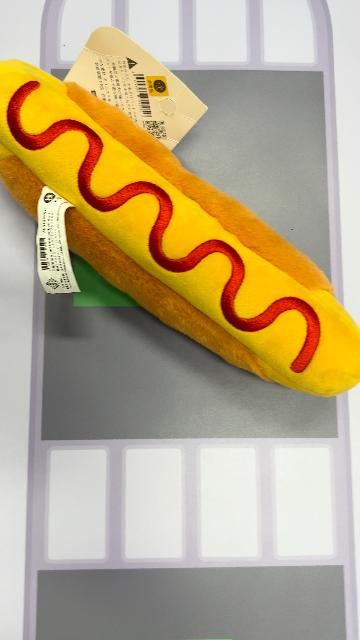hotdog: (1, 58, 358, 398)
